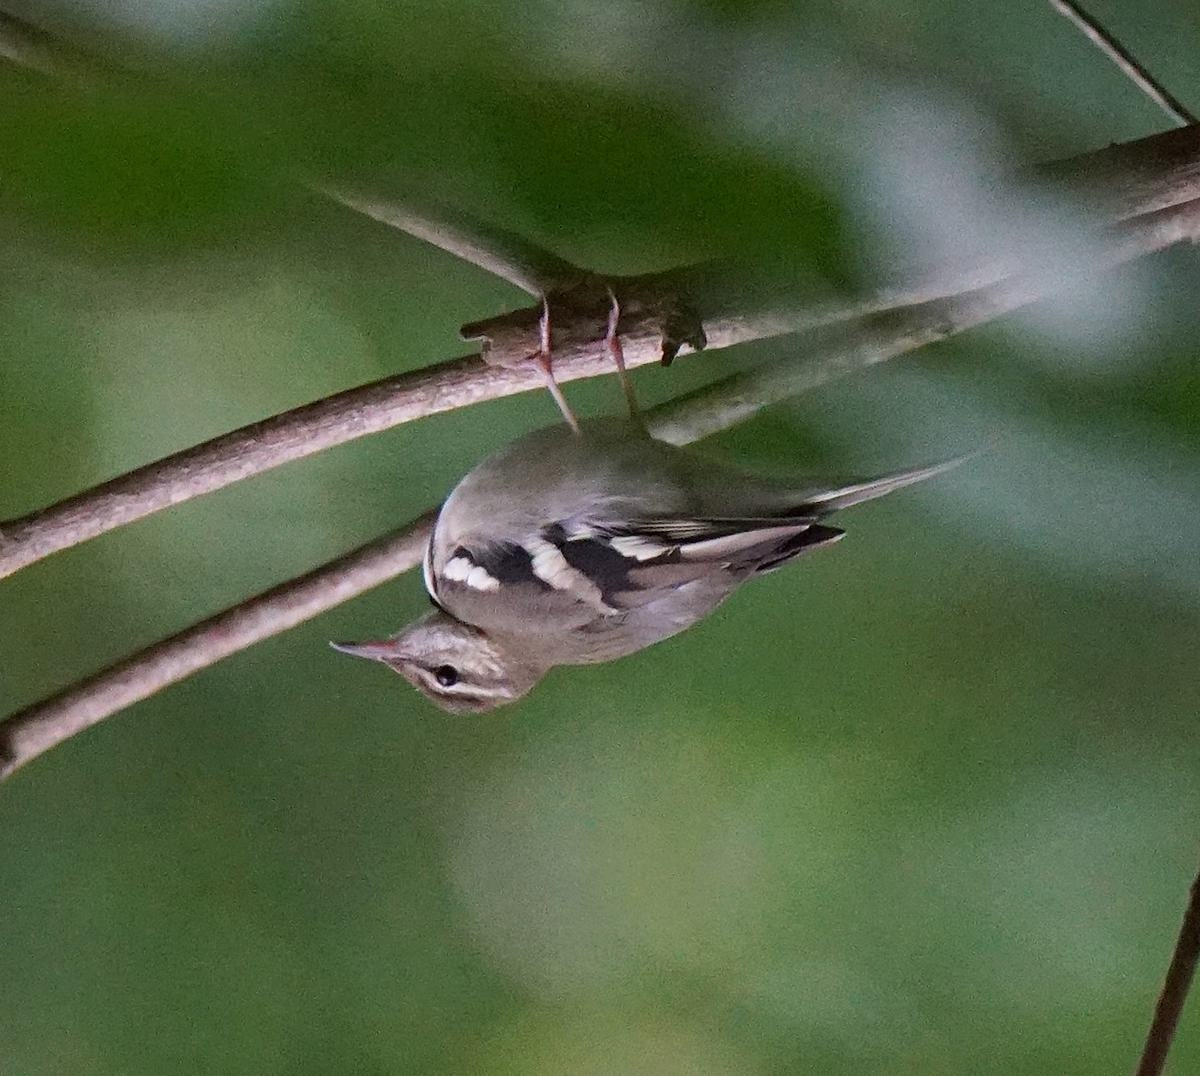wagtail: (334, 368, 881, 742)
